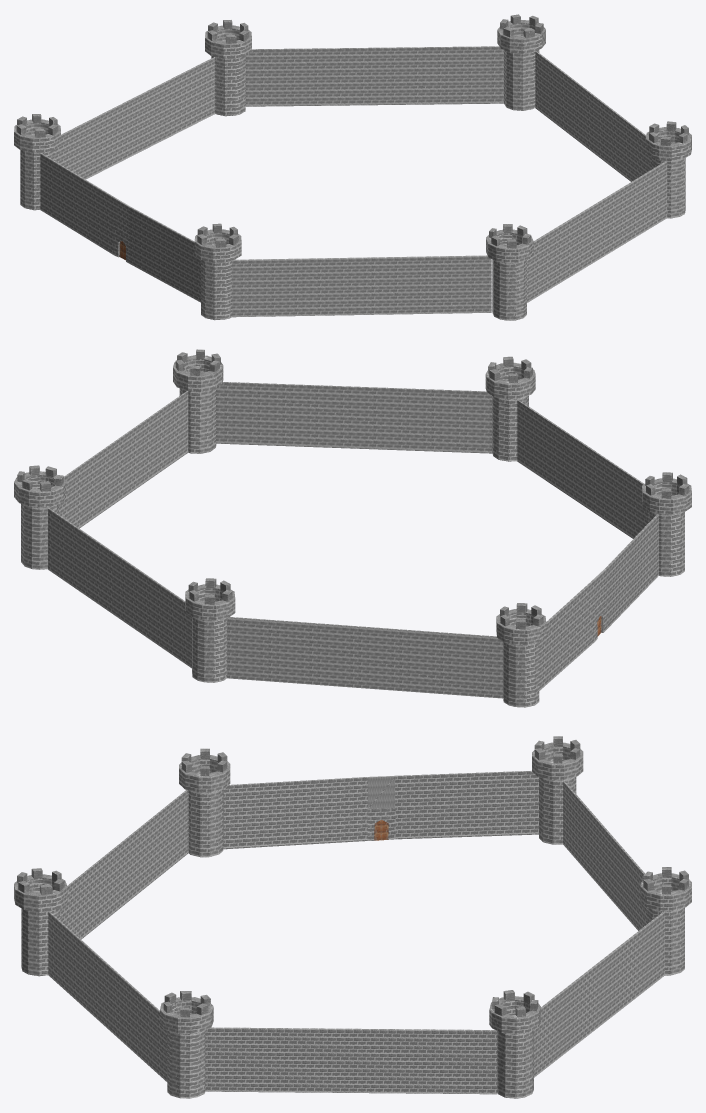
Rendered from castle.obj.
The picture shows the model from 3 angles, top to bottom: view 1: azimuth 30°, elevation 25°; view 2: azimuth 150°, elevation 25°; view 3: azimuth 270°, elevation 25°; orthographic projection. The views are drawn at different scales.
Visible parts, largest first — view 1: Cube.008, Cube.017, Cube.010, Cube.018, Cube.007, Cube.006, Cube.004, Cube.014, Cube.003, Cube.001, Cube.002, Cube.005; view 2: Cube.007, Cube.018, Cube.017, Cube.008, Cube.006, Cube.010, Cube.002, Cube.001, Cube.005, Cube.014, Cube.003, Cube.004; view 3: Cube.010, Cube.006, Cube.017, Cube.008, Cube.007, Cube.018, Cube.005, Cube.014, Cube.003, Cube.004, Cube.002, Cube.001 (+1 smaller).
Part boxes in pixels (<box>): Cube.008: <box>231,255,491,317</box>; Cube.017: <box>245,46,503,106</box>; Cube.010: <box>40,153,200,302</box>; Cube.018: <box>54,57,215,179</box>; Cube.007: <box>527,161,667,302</box>; Cube.006: <box>535,51,651,181</box>; Cube.004: <box>486,224,533,320</box>; Cube.014: <box>497,14,545,110</box>; Cube.003: <box>194,223,241,320</box>; Cube.001: <box>205,20,251,116</box>; Cube.002: <box>14,114,60,210</box>; Cube.005: <box>645,121,691,218</box>; Cube.007: <box>216,382,492,453</box>; Cube.018: <box>227,617,503,698</box>; Cube.017: <box>48,508,191,668</box>; Cube.008: <box>517,400,648,538</box>; Cube.006: <box>59,391,188,528</box>; Cube.010: <box>539,514,658,690</box>; Cube.002: <box>496,603,546,707</box>; Cube.001: <box>185,578,235,682</box>; Cube.005: <box>173,349,223,453</box>; Cube.014: <box>14,465,66,569</box>; Cube.003: <box>642,472,691,576</box>; Cube.004: <box>485,356,535,461</box>; Cube.010: <box>223,770,538,849</box>; Cube.006: <box>205,1027,497,1094</box>; Cube.017: <box>534,912,664,1077</box>; Cube.008: <box>60,790,188,939</box>; Cube.007: <box>48,911,167,1081</box>; Cube.018: <box>563,781,647,930</box>; Cube.005: <box>160,991,213,1098</box>; Cube.014: <box>489,990,540,1098</box>; Cube.003: <box>179,748,230,857</box>; Cube.004: <box>14,868,67,976</box>; Cube.002: <box>532,736,583,844</box>; Cube.001: <box>640,867,691,975</box>.
Bounding box in the file's own units: 171 × 26.09 × 178.
Materials: 2 (2 with a texture image).
